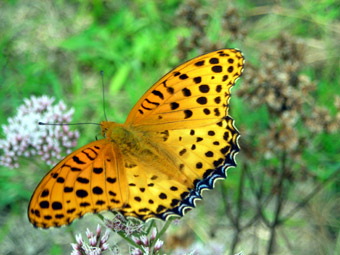Argyreus hyperbius: (25, 45, 247, 230)
butterfly: (27, 47, 249, 232)
